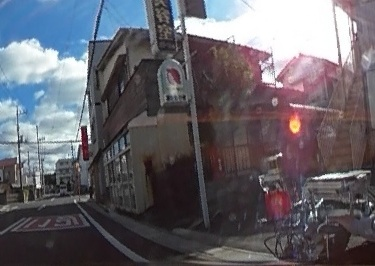person: (316, 25, 375, 266)
